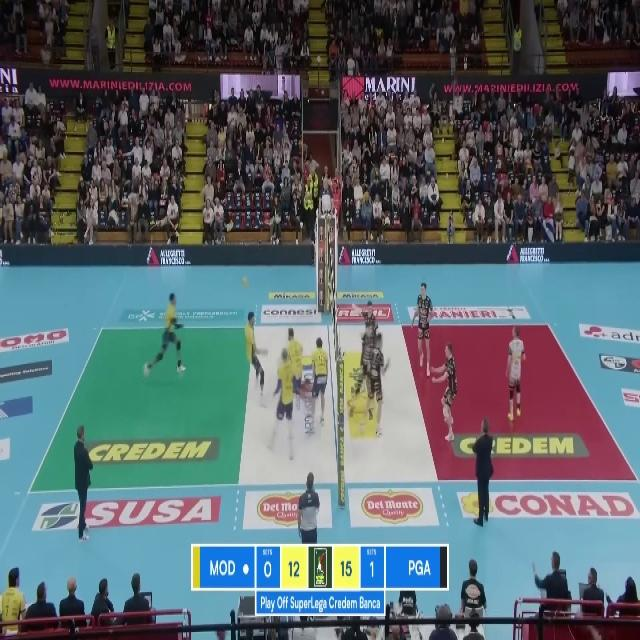volleyball court: (27, 321, 636, 495)
